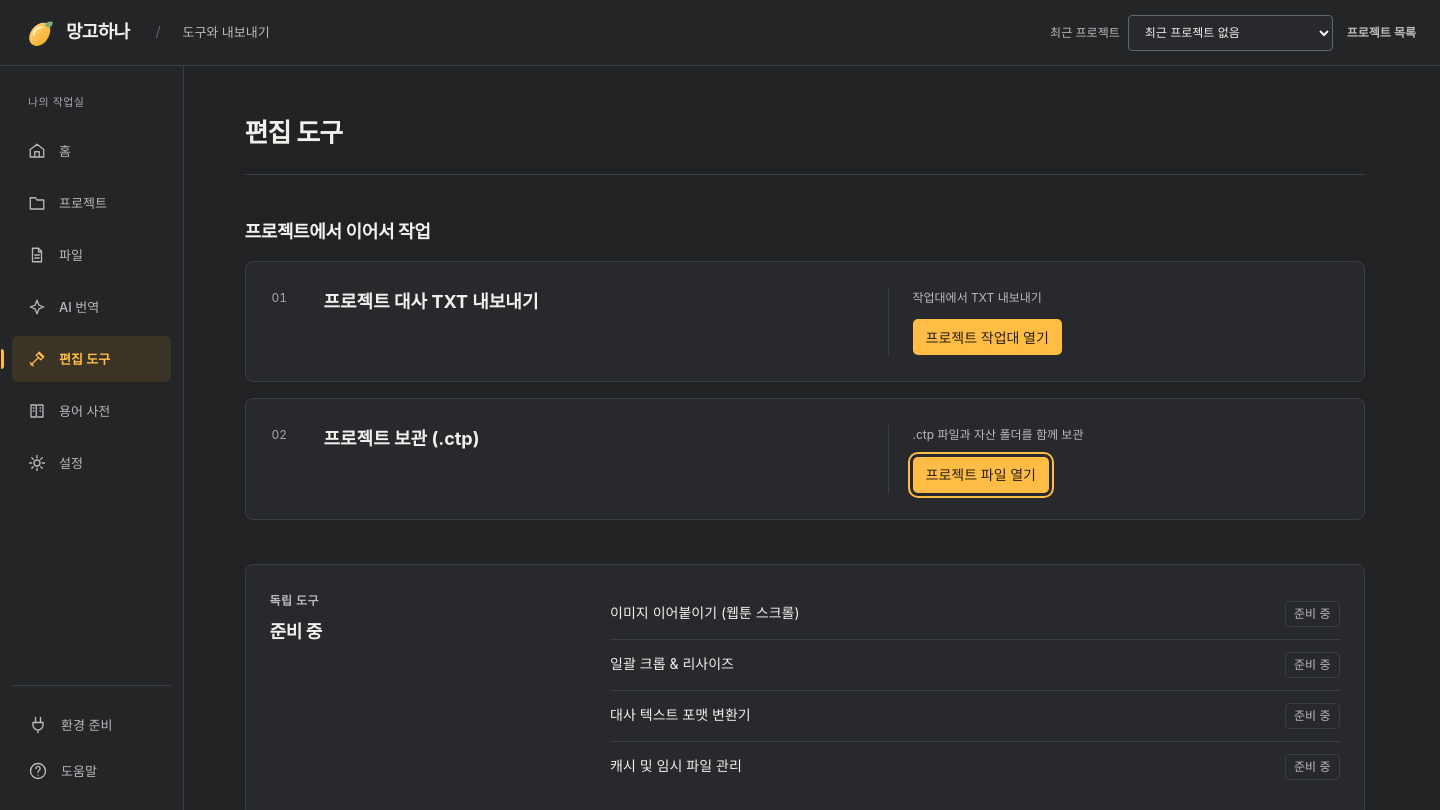
it: ToolsPage › returns focus on cancel and Escape without opening a project
Click the button "프로젝트 파일 열기": (981, 474) 912,456 -> 1049,492
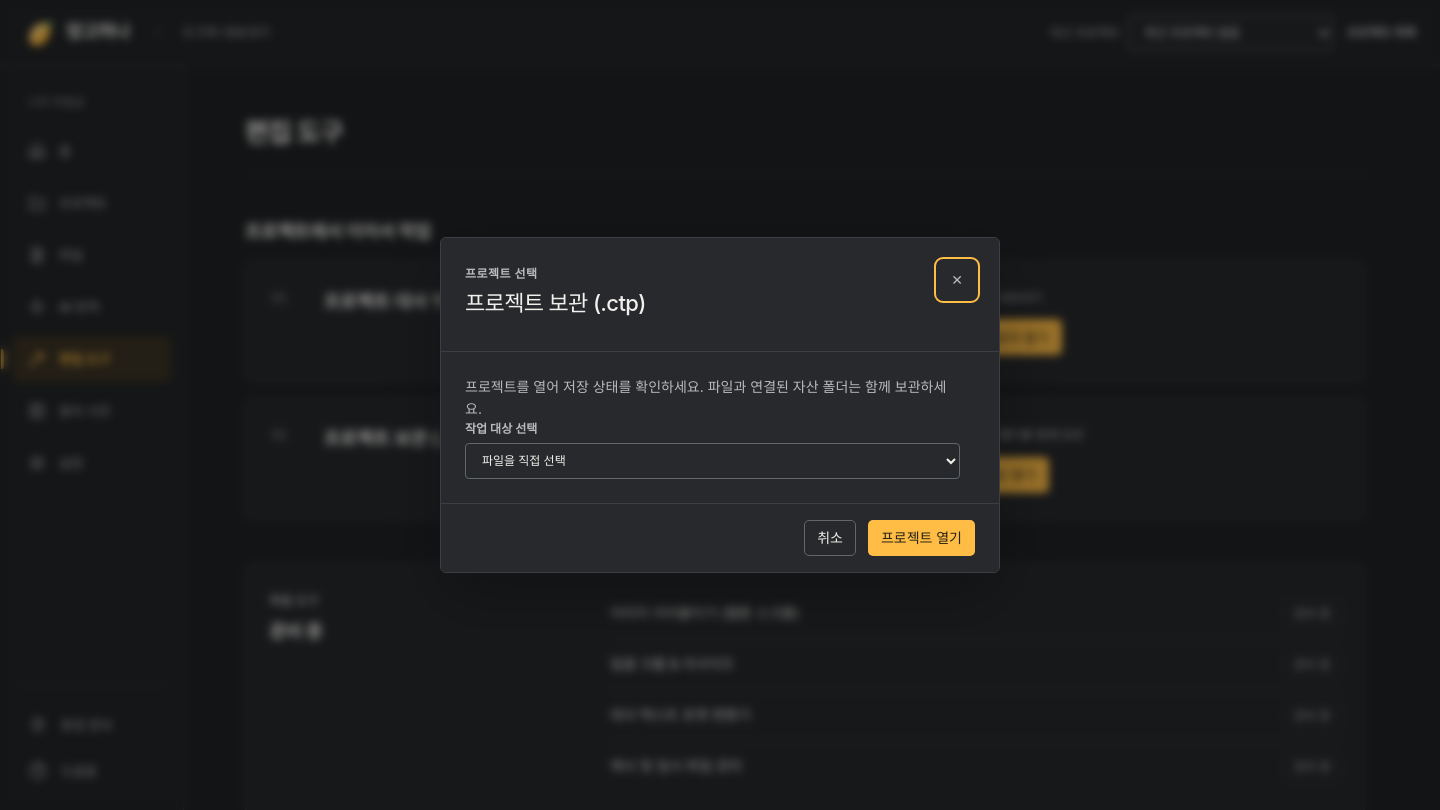
Click the button "취소": (830, 538) 804,520 -> 856,556
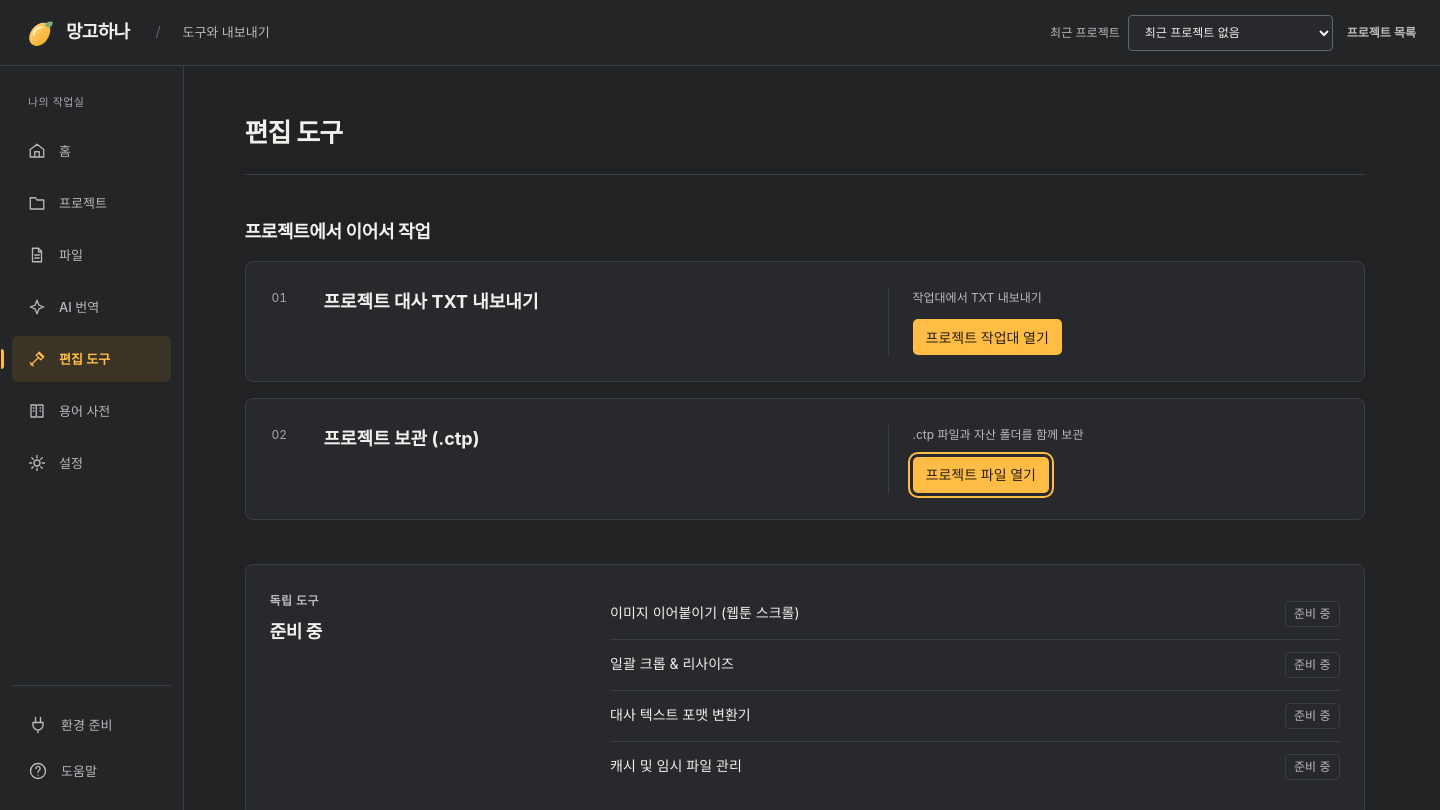
Now the dialog is gone
Click the button "프로젝트 파일 열기": (981, 474) 912,456 -> 1049,492
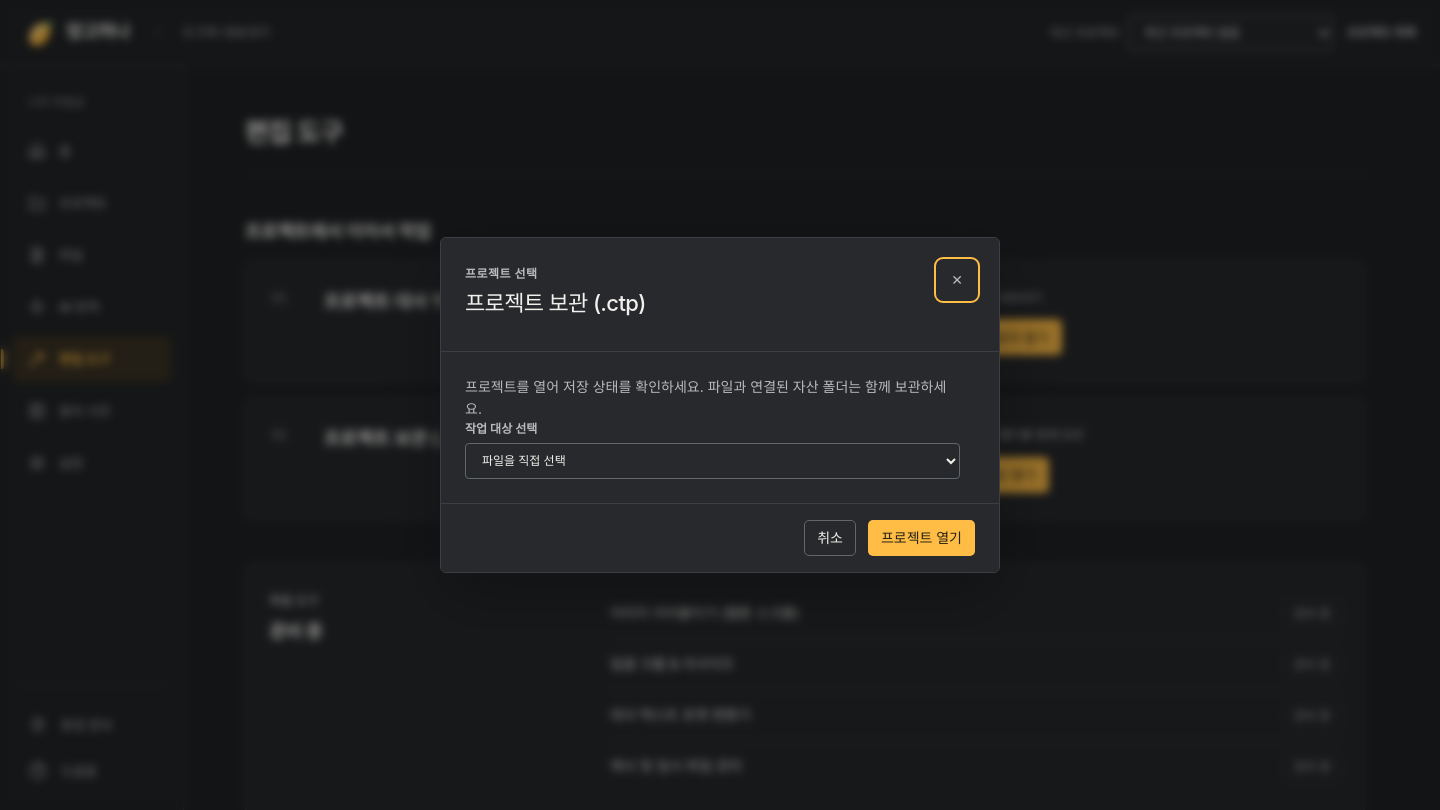
Press Escape
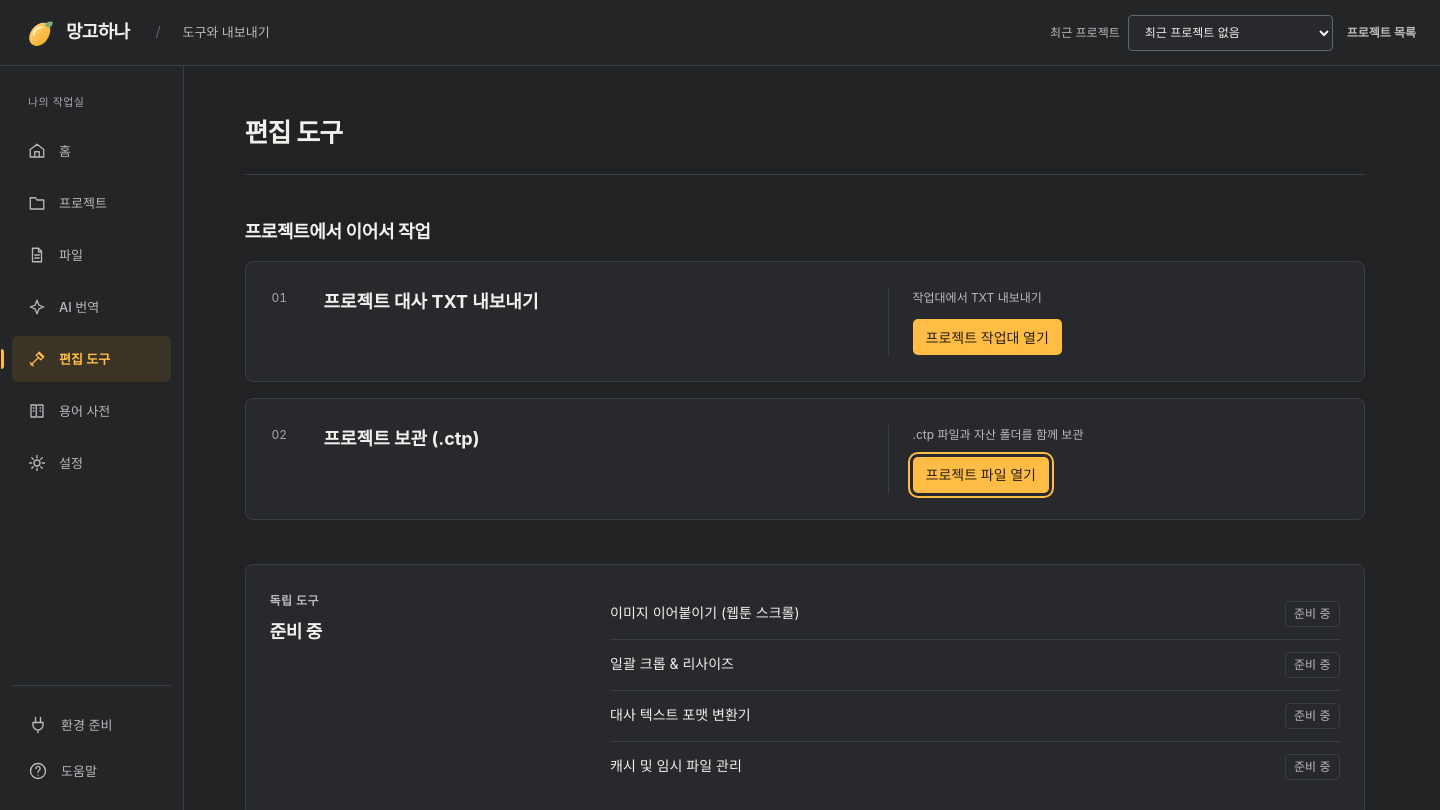
Now the dialog is gone
